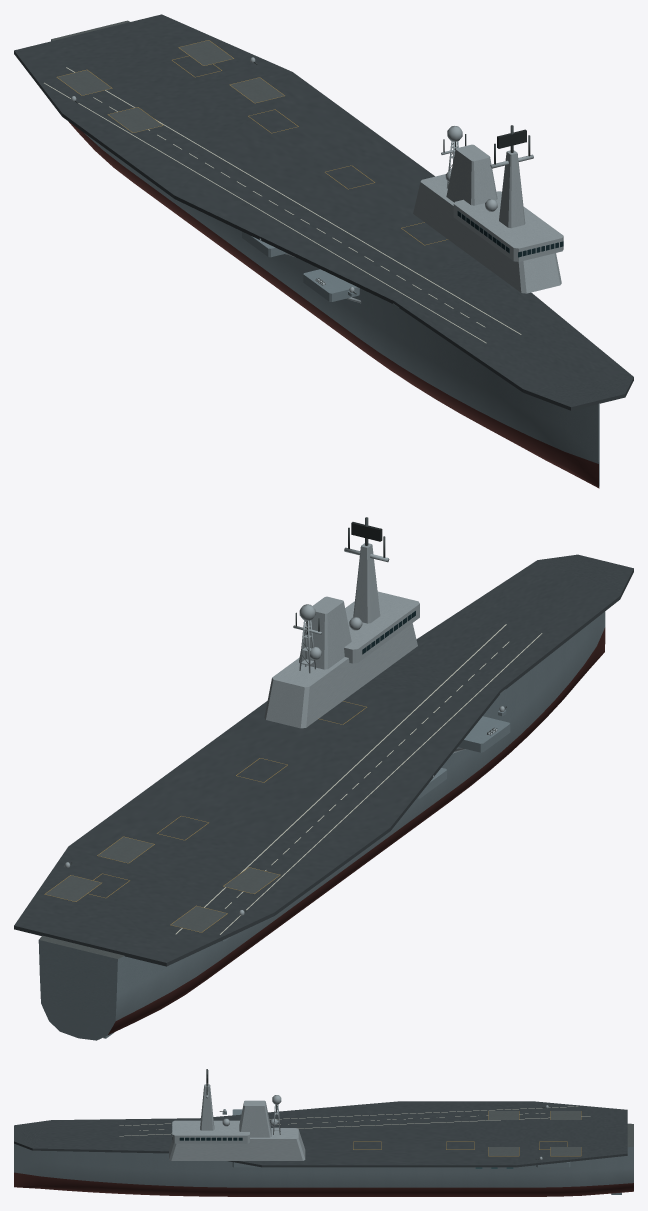
The model's file is wings_charles_de_gaulle_r91.glb.
3 views of the same model, one above another, from view 1: azimuth 30°, elevation 25°; view 2: azimuth 150°, elevation 25°; view 3: azimuth 270°, elevation 25° (orthographic). The views are drawn at different scales.
Visible parts, largest first — view 1: static_hull_deck_superstructure; view 2: static_hull_deck_superstructure; view 3: static_hull_deck_superstructure.
Boxes of the visible parts, x1,y1,x2,y2 form: static_hull_deck_superstructure: (14, 14, 633, 488); static_hull_deck_superstructure: (14, 517, 633, 1040); static_hull_deck_superstructure: (14, 1069, 633, 1196).
Size of the model in its own units: 63.72 by 66.28 by 262.
Materials: 1 (1 with a texture image).
